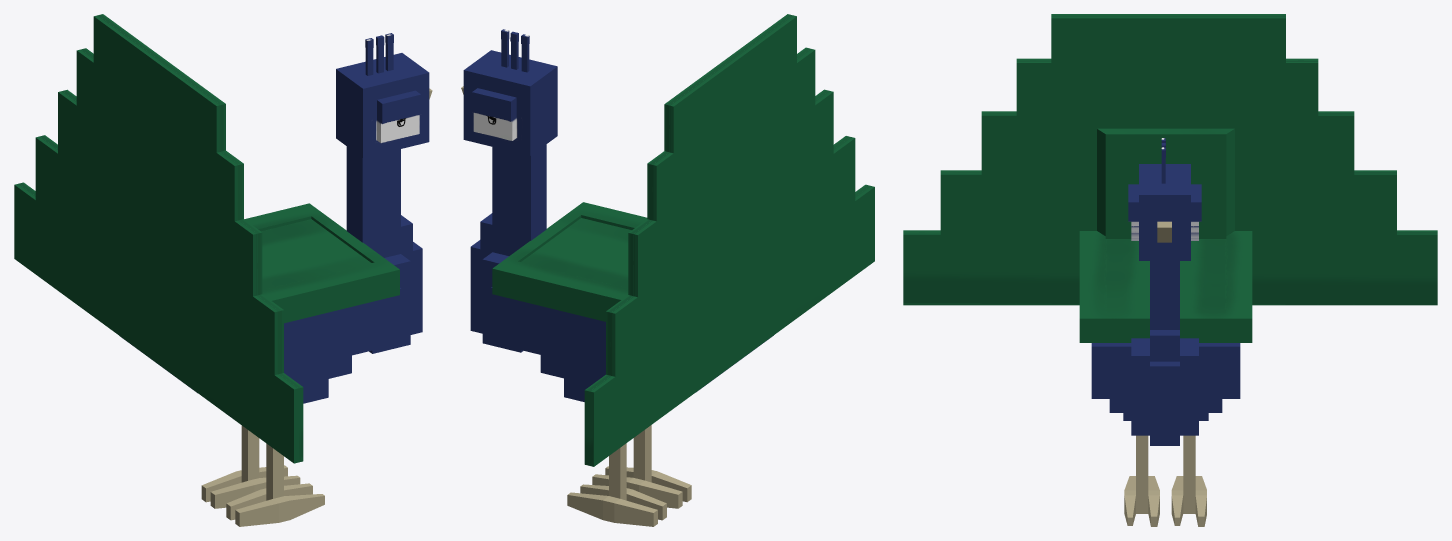
The model's file is Peacock 1.fbx.
3 renders of one model, left to right at view 1: azimuth 30°, elevation 25°; view 2: azimuth 150°, elevation 25°; view 3: azimuth 270°, elevation 25°, orthographic. The views are drawn at different scales.
Visible parts, largest first — view 1: Feathers, NeckHead, Body.001, Body, LegR, LegL, Headfeathers; view 2: Feathers, NeckHead, Body.001, Body, LegL, LegR, Headfeathers; view 3: Feathers, Body.001, NeckHead, Body, LegL, LegR.
Boxes of the visible parts, bbox=[...] form: Feathers: bbox=[14, 14, 303, 463]; NeckHead: bbox=[336, 53, 429, 353]; Body.001: bbox=[244, 203, 399, 323]; Body: bbox=[120, 288, 401, 403]; LegR: bbox=[226, 443, 324, 526]; LegL: bbox=[201, 425, 300, 508]; Headfeathers: bbox=[365, 33, 393, 75]; Feathers: bbox=[584, 14, 874, 466]; NeckHead: bbox=[463, 50, 557, 352]; Body.001: bbox=[492, 202, 647, 321]; Body: bbox=[491, 287, 773, 401]; LegL: bbox=[567, 443, 666, 526]; LegR: bbox=[592, 425, 691, 508]; Headfeathers: bbox=[501, 29, 529, 72]; Feathers: bbox=[903, 14, 1437, 305]; Body.001: bbox=[1079, 128, 1252, 342]; NeckHead: bbox=[1128, 164, 1201, 445]; Body: bbox=[1091, 343, 1240, 420]; LegL: bbox=[1171, 435, 1206, 526]; LegR: bbox=[1124, 435, 1159, 526].
Bounding box in the file's own units: 2.44 × 4.02 × 4.35.
